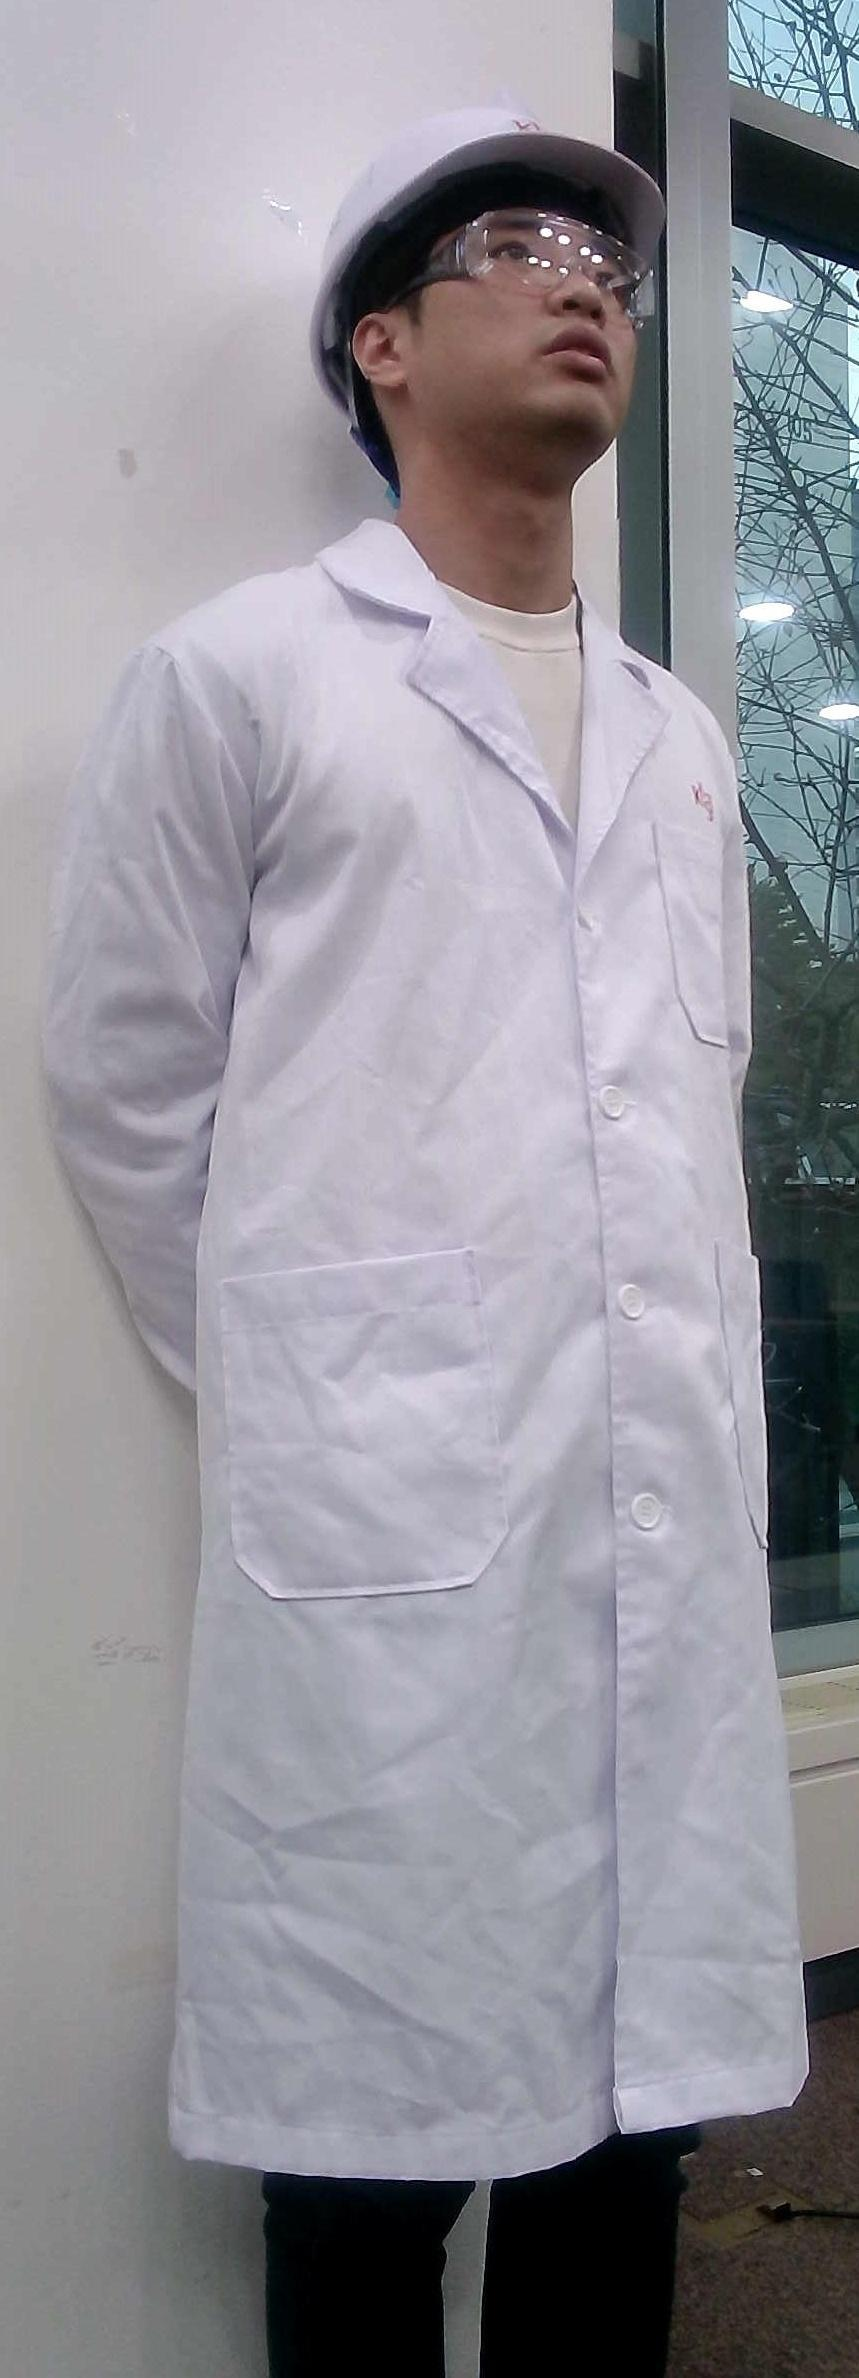lab_coat: (71, 561, 836, 2151)
